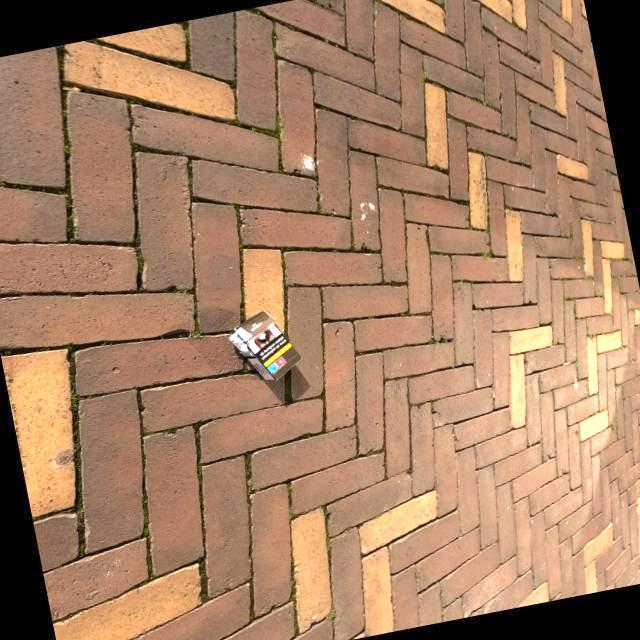Paper: (226, 308, 304, 384)
